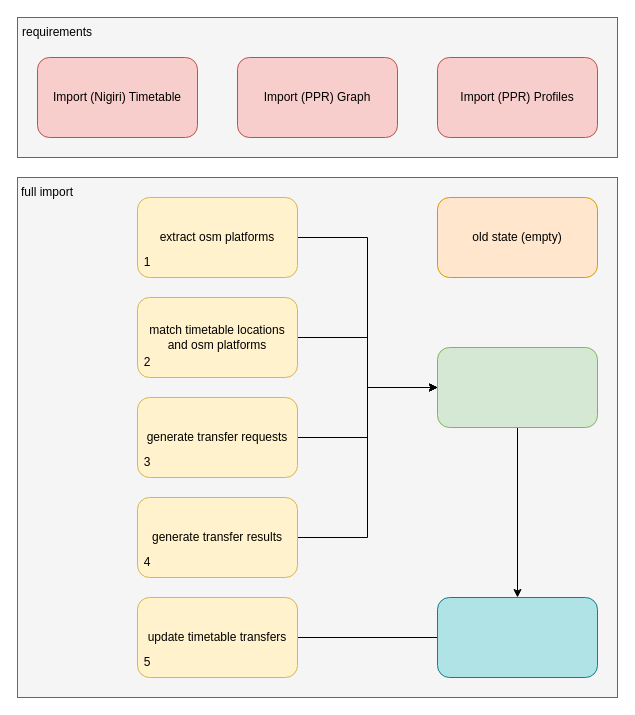
Image size: 635x715. Some labels were removed from this diagram. The shapes that lost their labels are listed below. From the top down, each one's centre as x and y in pixels, then its label:
(517,387): update state
(517,637): timetable
